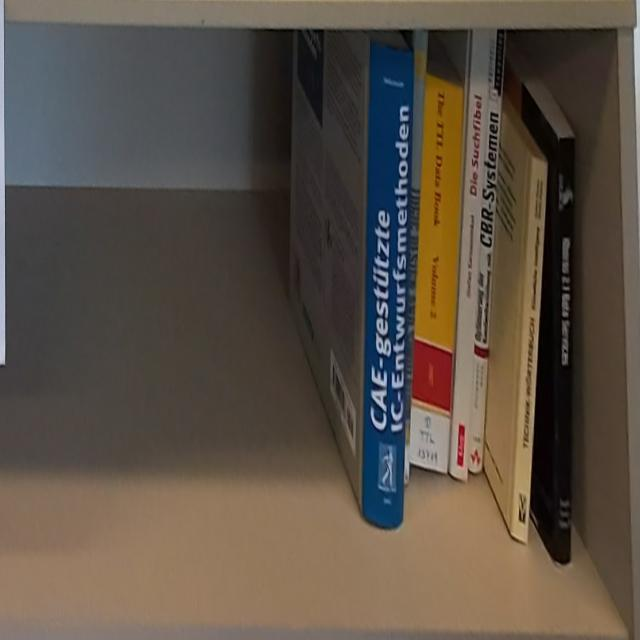Book Spine: (362, 41, 415, 532), (412, 75, 463, 477), (450, 22, 491, 486), (466, 33, 506, 474), (511, 151, 548, 548), (404, 31, 429, 496), (554, 138, 577, 571)
